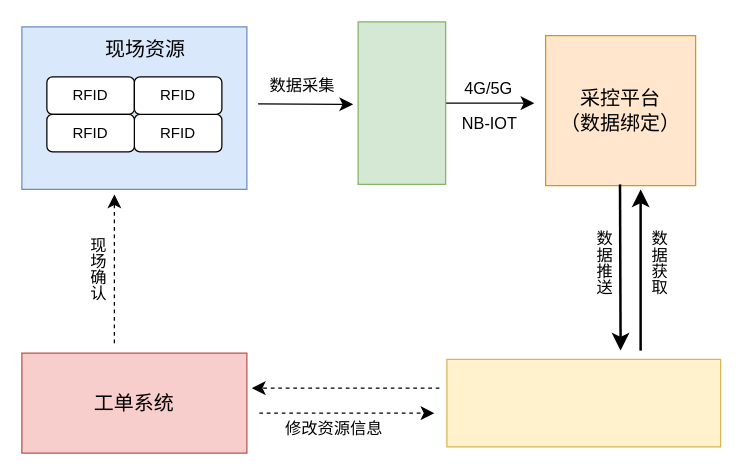
Some shapes in this 743 by 475 pixel diagram are drawn without their labels. Here are the shapes that lost their labels. From the top down, the centre of each, then its label:
point (401, 102): FRID阅读器
point (583, 402): 资源系统 （数据对比）
